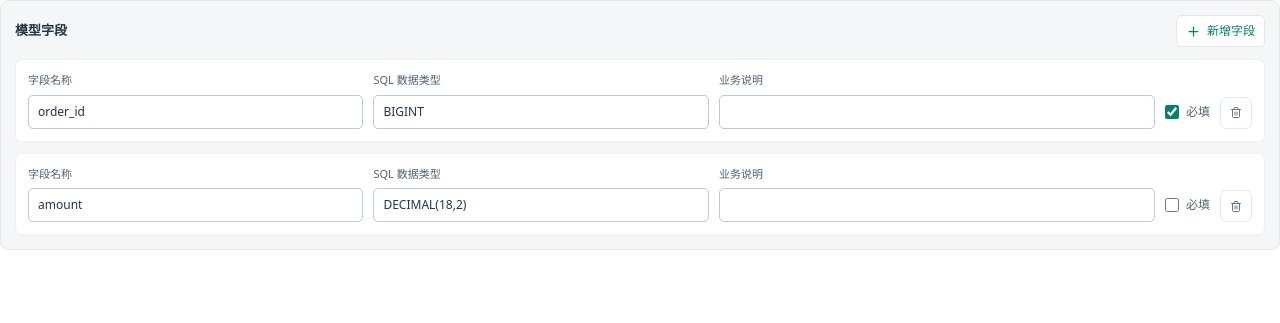
Structured business configuration interactions › shows duplicate column names and clears the warning after removing the duplicate
Replace the text in the field named "字段名称 2" with "ORDER_ID": (196, 205) x1=28 y1=188 x2=363 y2=222
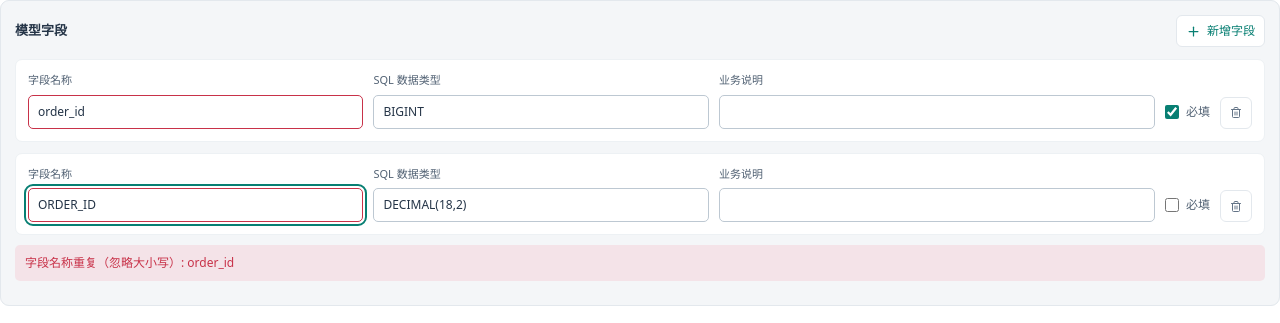
Expected: the message shows "字段名称重复", x1=25 y1=254 x2=181 y2=271
Click the button named "删除字段 ORDER_ID": click(1236, 206) x1=1220 y1=190 x2=1252 y2=222
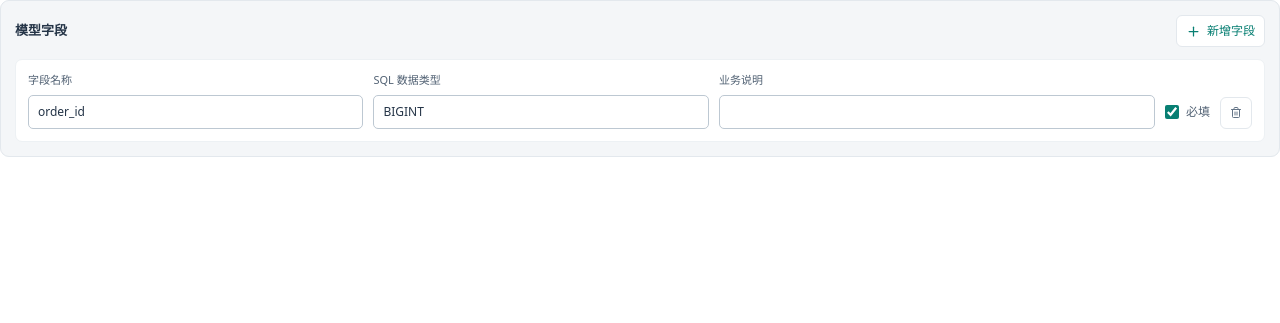
Expected: the checkbox named "必填 1" is checked, x1=1165 y1=104 x2=1179 y2=118
Expected: the message "字段名称重复（忽略大小写）: order_id" is gone
